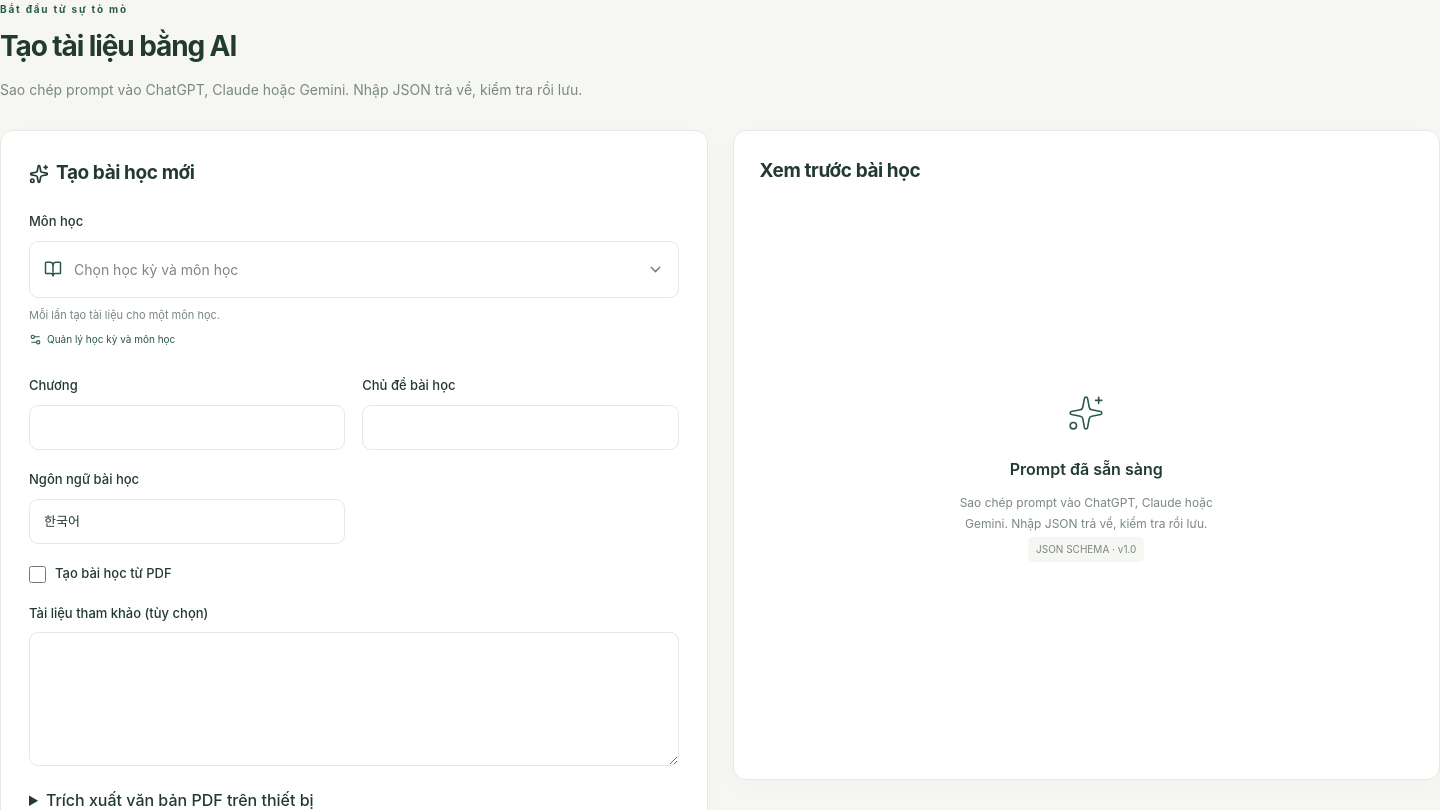
Scenario: shows the empty third semester and closes the menu with Escape
Click the button "Chọn học kỳ và môn học": click(156, 270) [29,241,678,298]
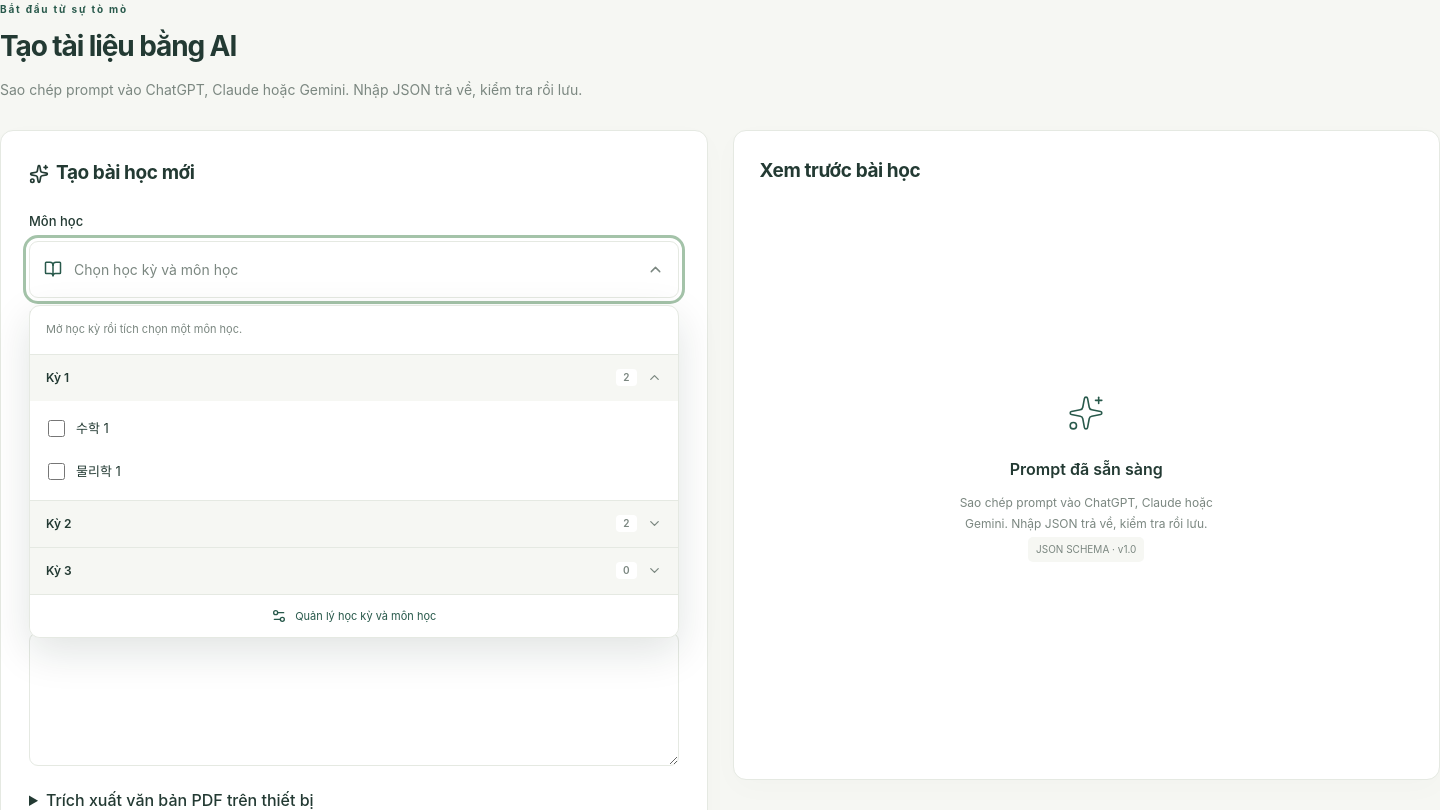
Click the button "Kỳ 3 0": click(59, 570) [30,548,678,594]
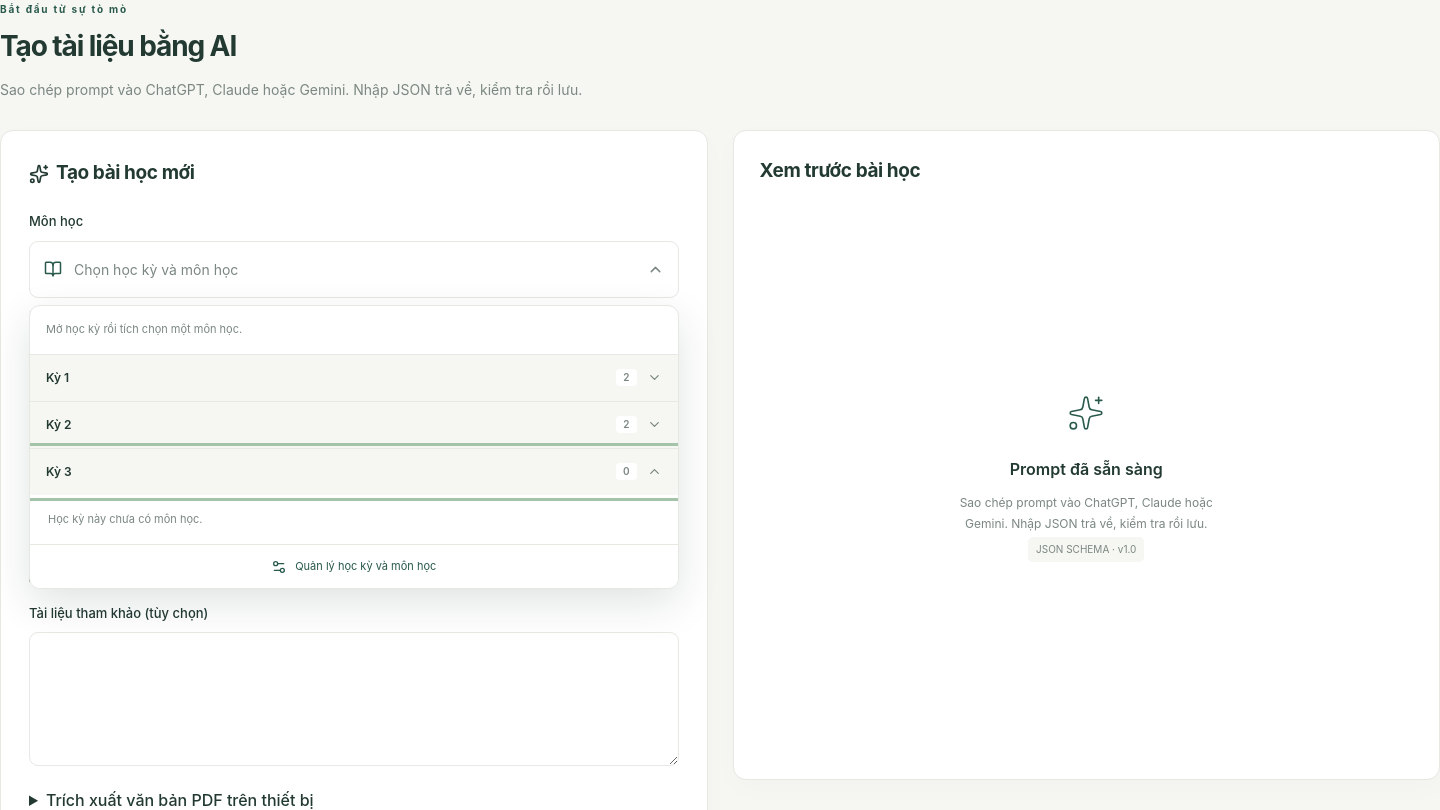
Check: the text "Học kỳ này chưa có môn học." is shown, box [48,512,202,526]
Press Escape
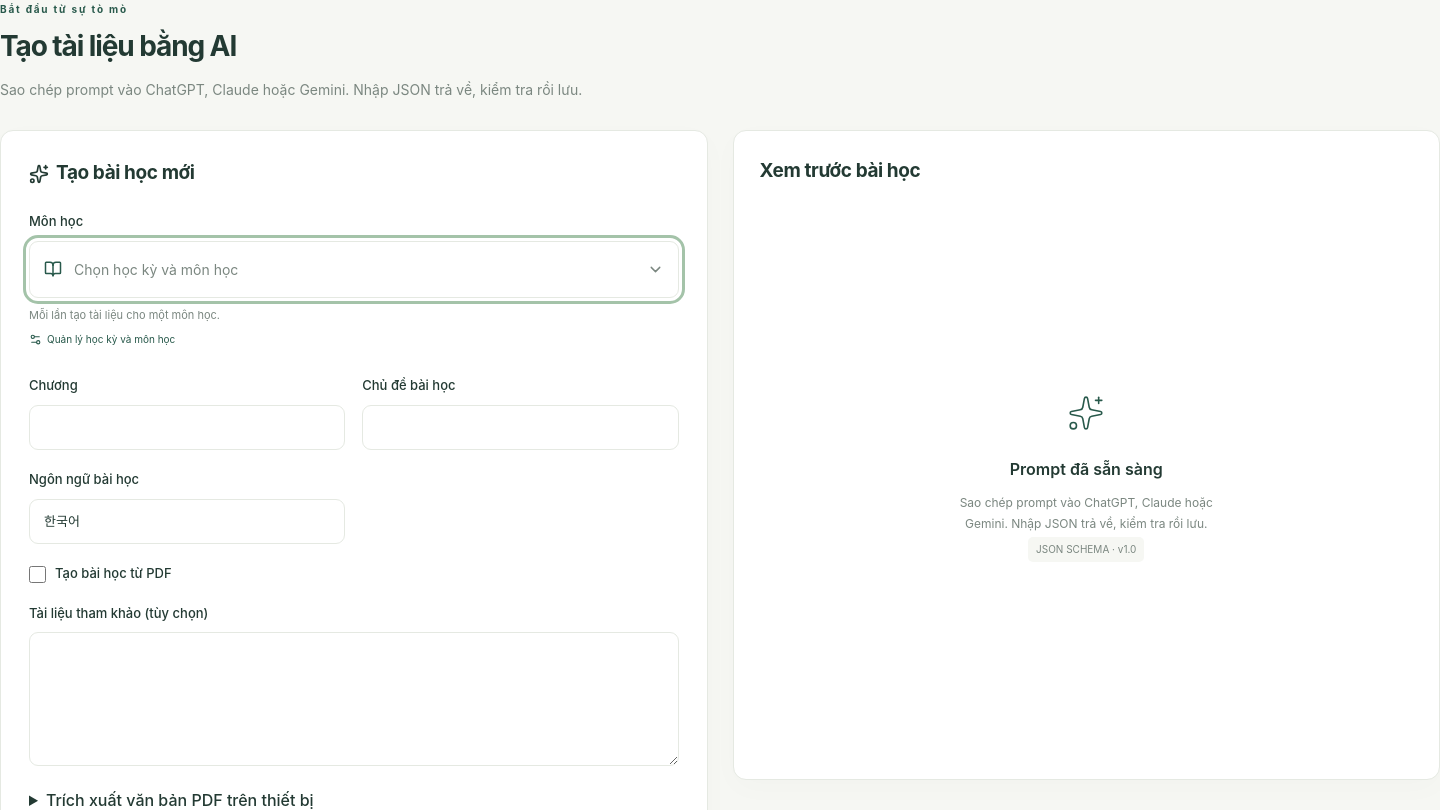
Check: the button "Chọn học kỳ và môn học" is collapsed, box [29,241,678,298]
